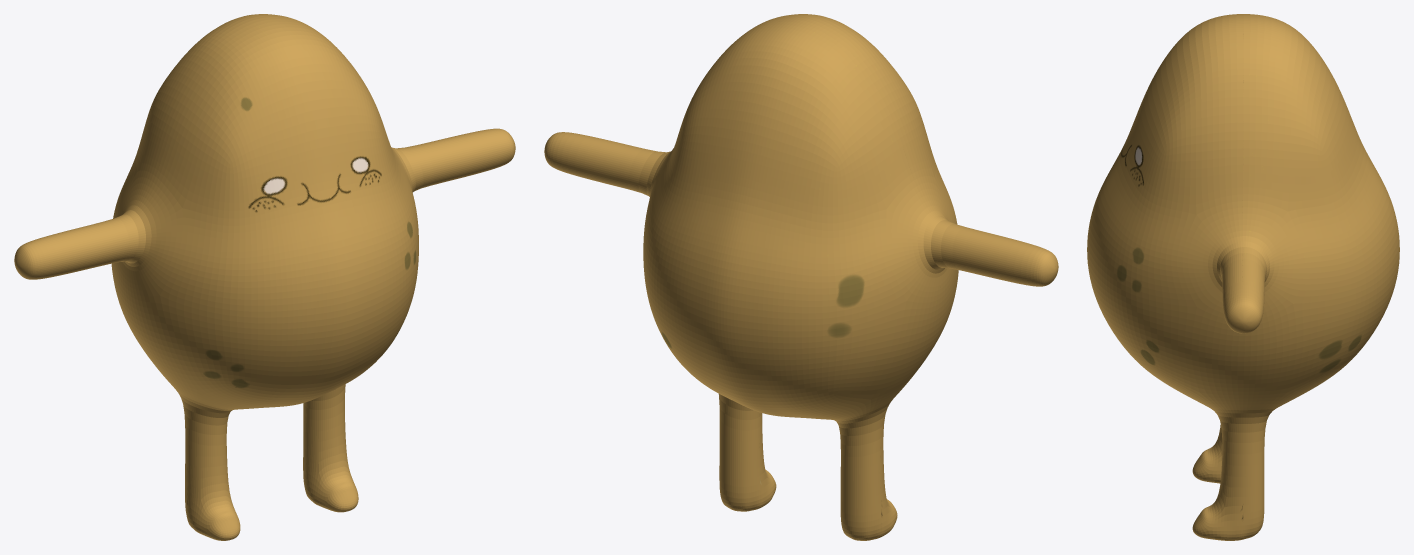
The model's file is patata.fbx.
The picture shows the model from 3 angles, left to right: view 1: azimuth 30°, elevation 25°; view 2: azimuth 150°, elevation 25°; view 3: azimuth 270°, elevation 25°; orthographic projection. The views are drawn at different scales.
Parts seen in each view (by area): view 1: Roundcube; view 2: Roundcube; view 3: Roundcube.
Part boxes in pixels (box(x1,y1,x2,y2)): Roundcube: box(14, 14, 515, 540); Roundcube: box(544, 14, 1058, 540); Roundcube: box(1087, 14, 1399, 540).
Bounding box in the file's own units: 89.96 × 84.66 × 49.37.
